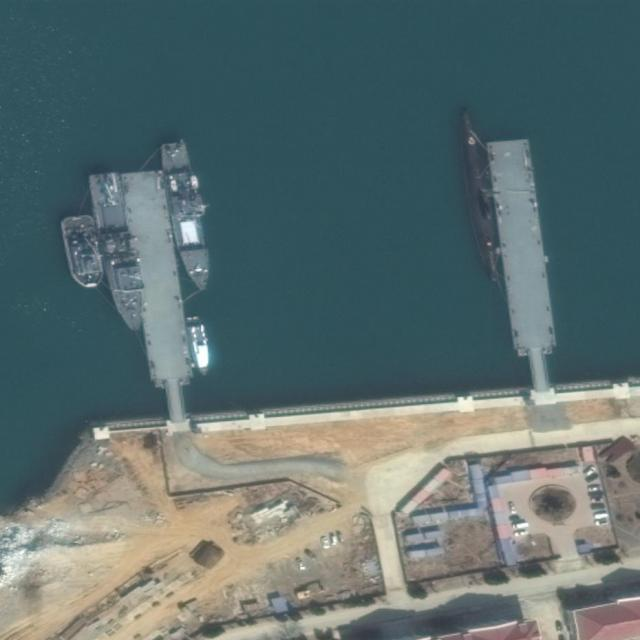Other Warship: (89, 169, 146, 330), (160, 136, 214, 295), (60, 214, 105, 288), (186, 314, 213, 378)
Submarine: (456, 107, 504, 284)
